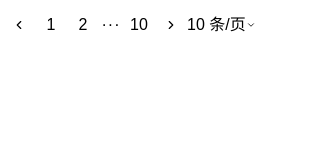
Test case: Pagination › showSizeChanger 支持键盘选择每页条数
Click the button named "每页 10 条": coordinates (221, 25) [187,8,256,42]
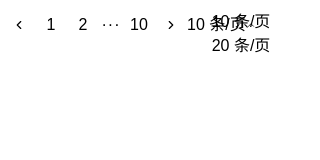
Press Space in the option "20 条/页", box [212,37,270,54]
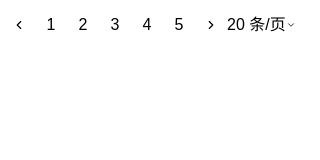
expect the list "选择每页条数" is gone: met
